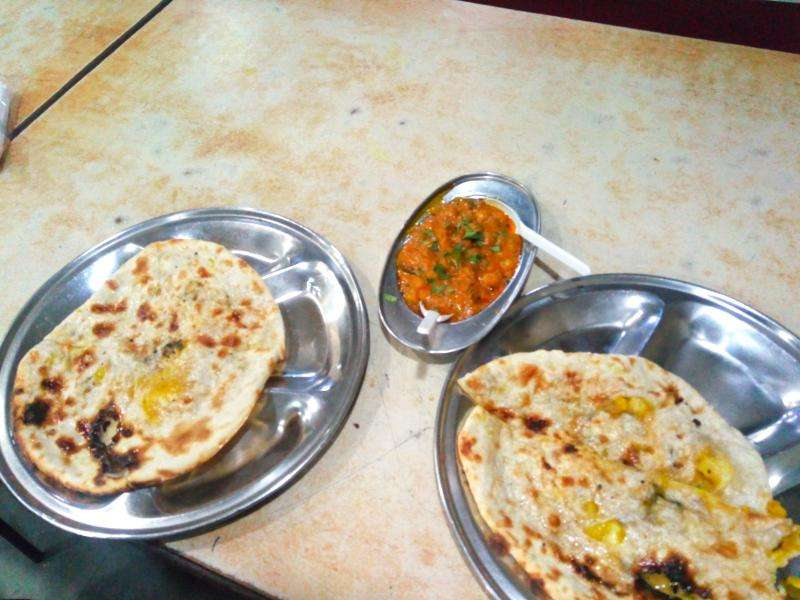aloo_paratha: (461, 353, 797, 600), (12, 239, 287, 496)
